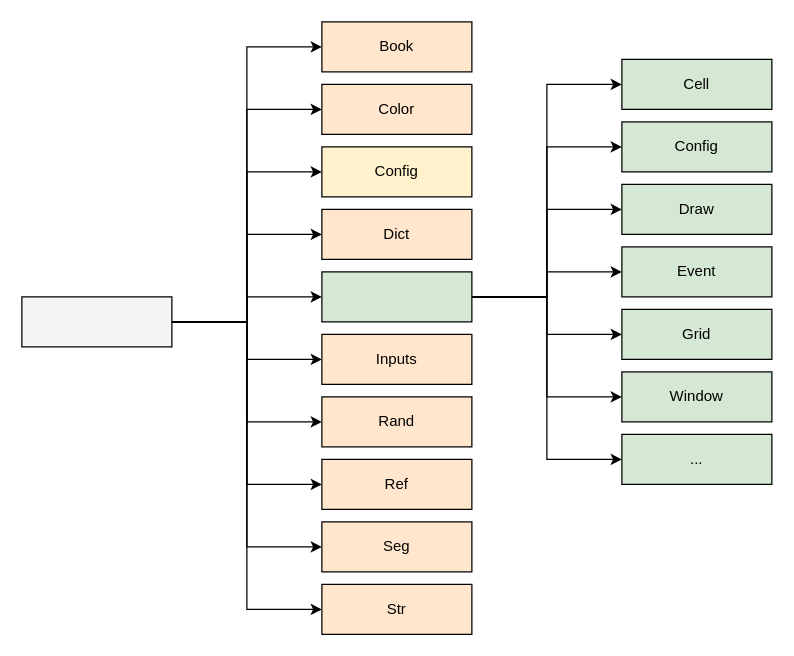
Image size: 794x656. Some labels were removed from this diagram. The shapes that lost their labels are listed below. From the top down, each one's box as (x1, y1, x2, y2) in pixels, then its label:
(321, 271, 472, 322): Graphics
(21, 296, 172, 347): Cassette
